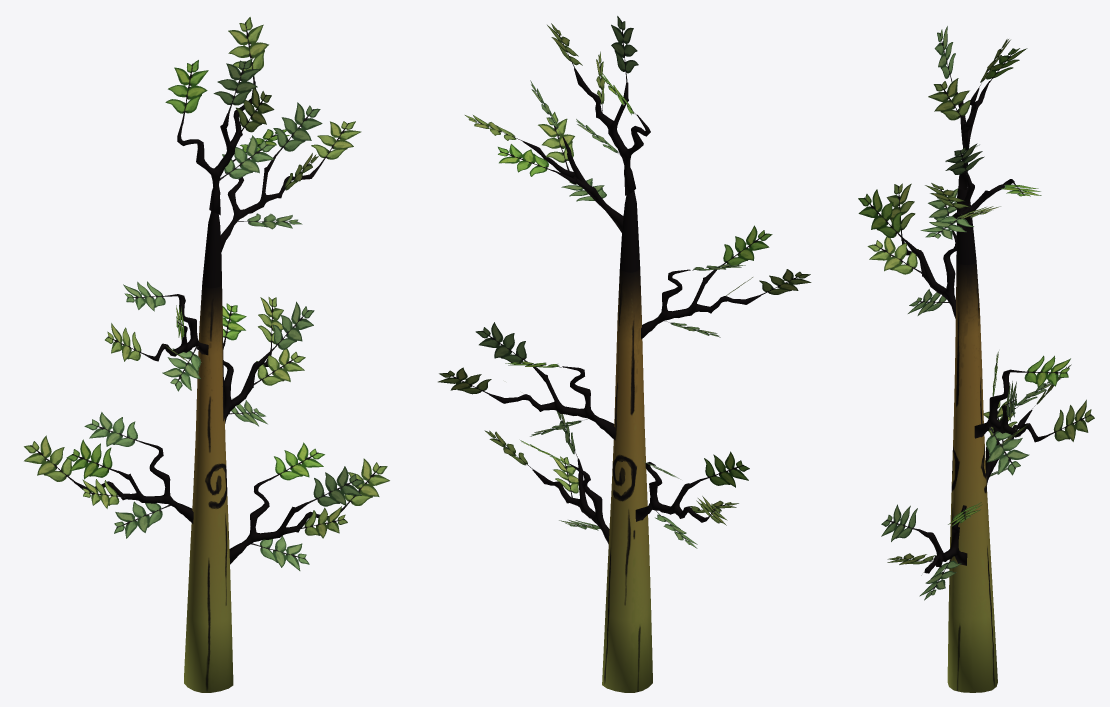
Rendered from OkamiTree.fbx.
3 views of the same model, side by side, from view 1: azimuth 30°, elevation 25°; view 2: azimuth 150°, elevation 25°; view 3: azimuth 270°, elevation 25° (orthographic). The views are drawn at different scales.
Parts seen in each view (by area): view 1: Cube.004, Cube.003; view 2: Cube.004, Cube.003; view 3: Cube.004, Cube.003.
Part boxes in pixels (bbox=[...]): Cube.004: bbox=[24, 17, 389, 570]; Cube.003: bbox=[184, 211, 233, 692]; Cube.004: bbox=[438, 16, 811, 548]; Cube.003: bbox=[602, 191, 652, 692]; Cube.004: bbox=[858, 26, 1094, 600]; Cube.003: bbox=[947, 185, 997, 692].
Bounding box in the file's own units: 1288 × 2533 × 828.
1 material, 1 textured.
